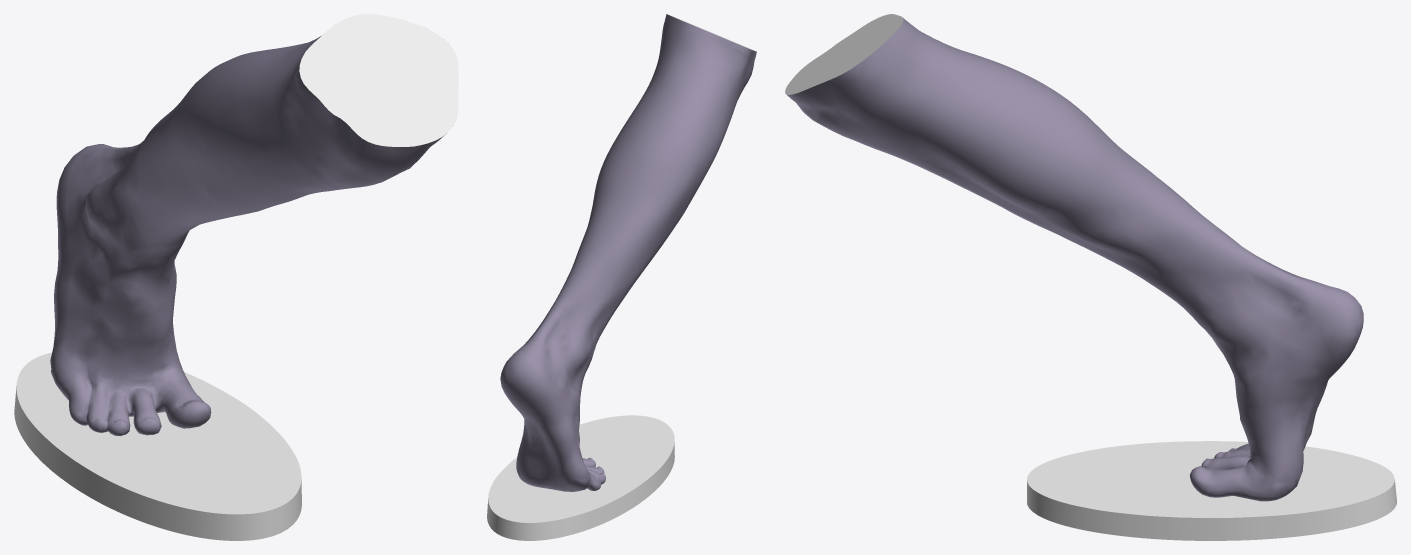
File: 脚_20260324194802_opt.glb
3 views of the same model, side by side, from view 1: azimuth 30°, elevation 25°; view 2: azimuth 150°, elevation 25°; view 3: azimuth 270°, elevation 25° (orthographic). The views are drawn at different scales.
Parts seen in each view (by area): view 1: LegsArmands_2_UV_LOW, Kajas3_Support, LegsArmands_2_UV_LOW001; view 2: LegsArmands_2_UV_LOW, Kajas3_Support; view 3: LegsArmands_2_UV_LOW, Kajas3_Support, LegsArmands_2_UV_LOW001.
Part boxes in pixels (<box>): LegsArmands_2_UV_LOW: <box>50,35,446,435</box>; Kajas3_Support: <box>14,352,301,540</box>; LegsArmands_2_UV_LOW001: <box>299,14,458,146</box>; LegsArmands_2_UV_LOW: <box>500,14,756,491</box>; Kajas3_Support: <box>487,415,674,540</box>; LegsArmands_2_UV_LOW: <box>786,18,1363,501</box>; Kajas3_Support: <box>1027,441,1396,540</box>; LegsArmands_2_UV_LOW001: <box>785,14,903,94</box>.
Size of the model in its own units: 0.137 by 0.4 by 0.4562.
